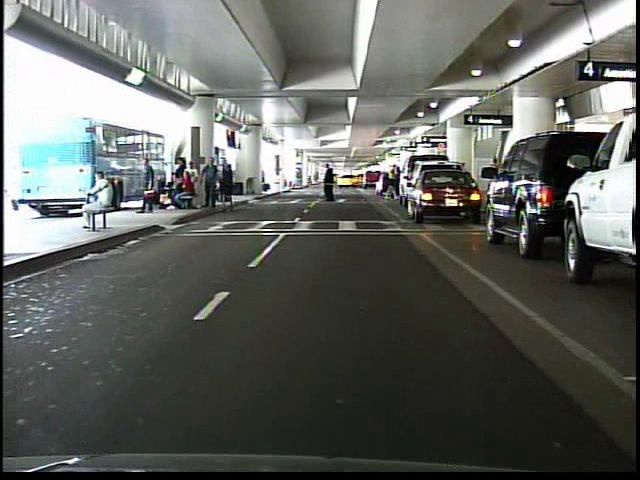person: (69, 165, 117, 235), (133, 153, 159, 218), (320, 162, 343, 208), (384, 161, 400, 198)
